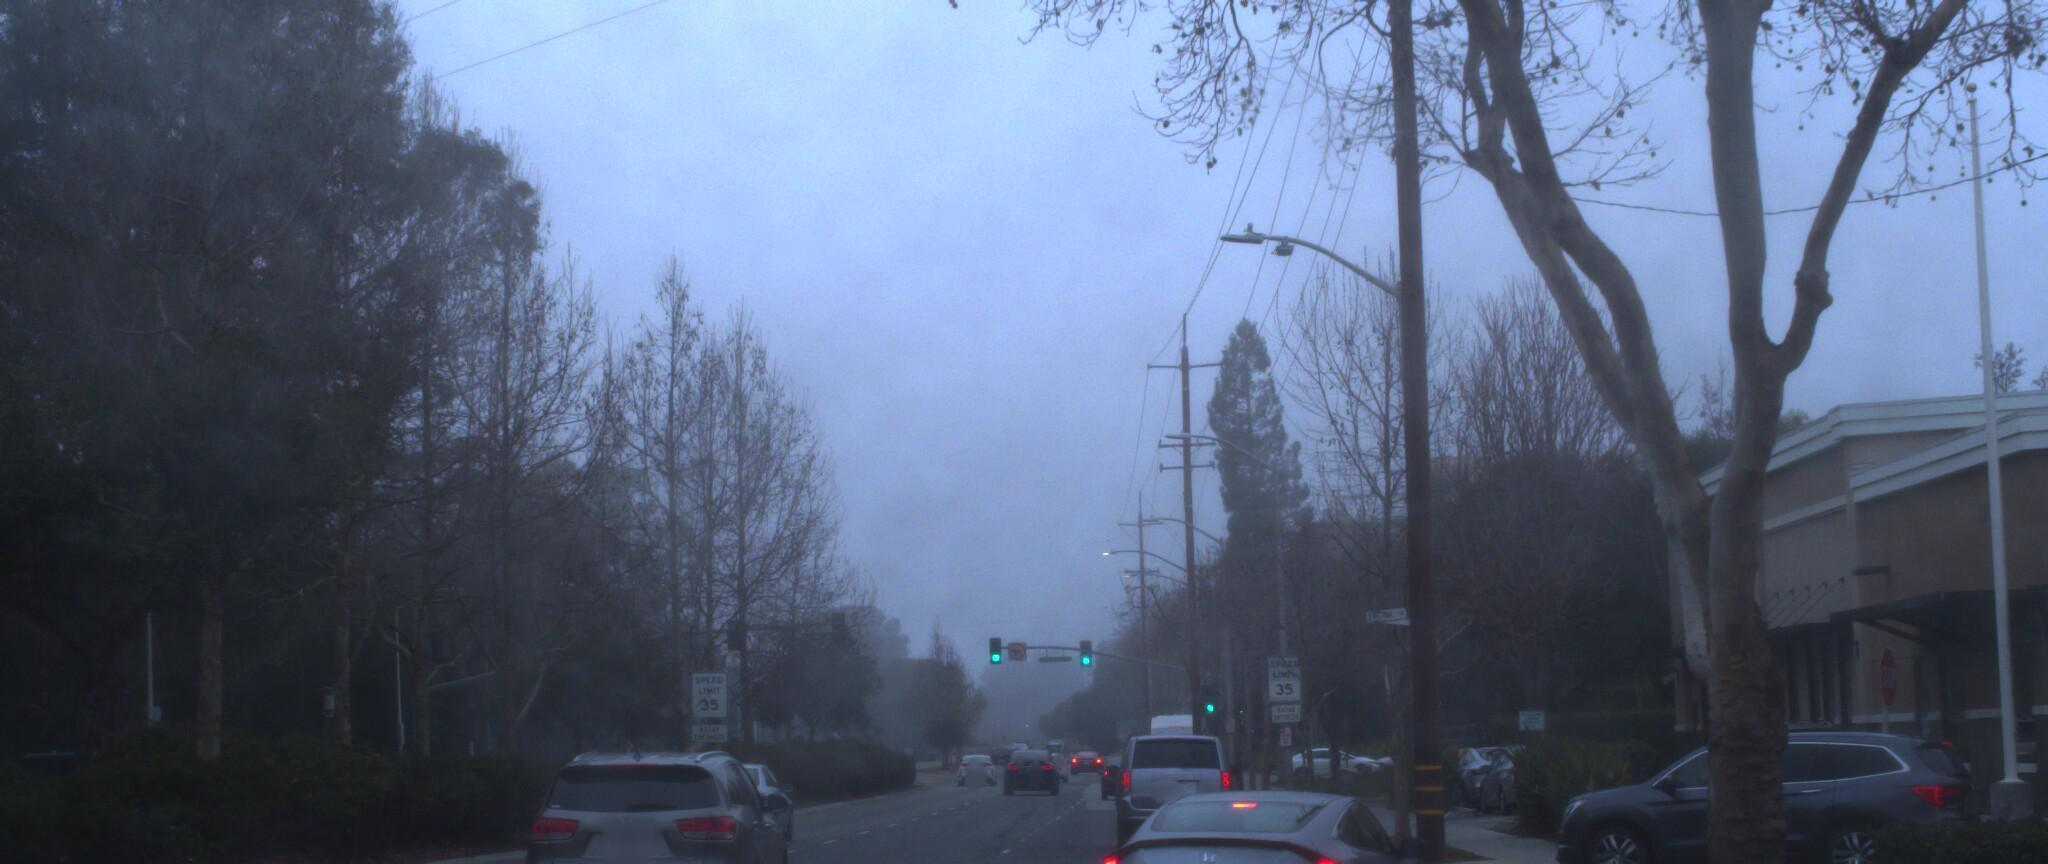car: (1516, 710, 1998, 864), (496, 732, 805, 864), (1031, 770, 1454, 864), (1112, 730, 1249, 852)
